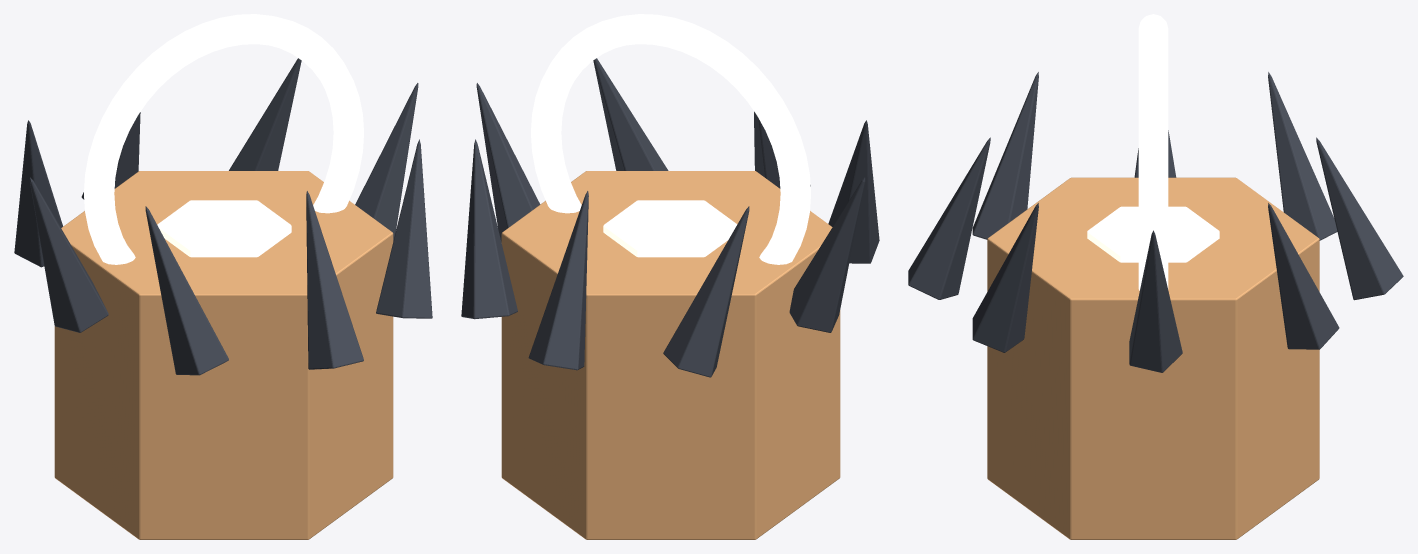
Rendered from SM_Boss_Kochbrunnen.fbx.
3 views of the same model, side by side, from view 1: azimuth 30°, elevation 25°; view 2: azimuth 150°, elevation 25°; view 3: azimuth 270°, elevation 25° (orthographic).
Visible parts, largest first — view 1: SM_Boss_Kochbrunnen; view 2: SM_Boss_Kochbrunnen; view 3: SM_Boss_Kochbrunnen.
Boxes of the visible parts, x1,y1,x2,y2 form: SM_Boss_Kochbrunnen: [14, 14, 432, 539]; SM_Boss_Kochbrunnen: [461, 14, 879, 539]; SM_Boss_Kochbrunnen: [908, 14, 1403, 539].
Bounding box in the file's own units: 3.4 × 3.91 × 3.82.
